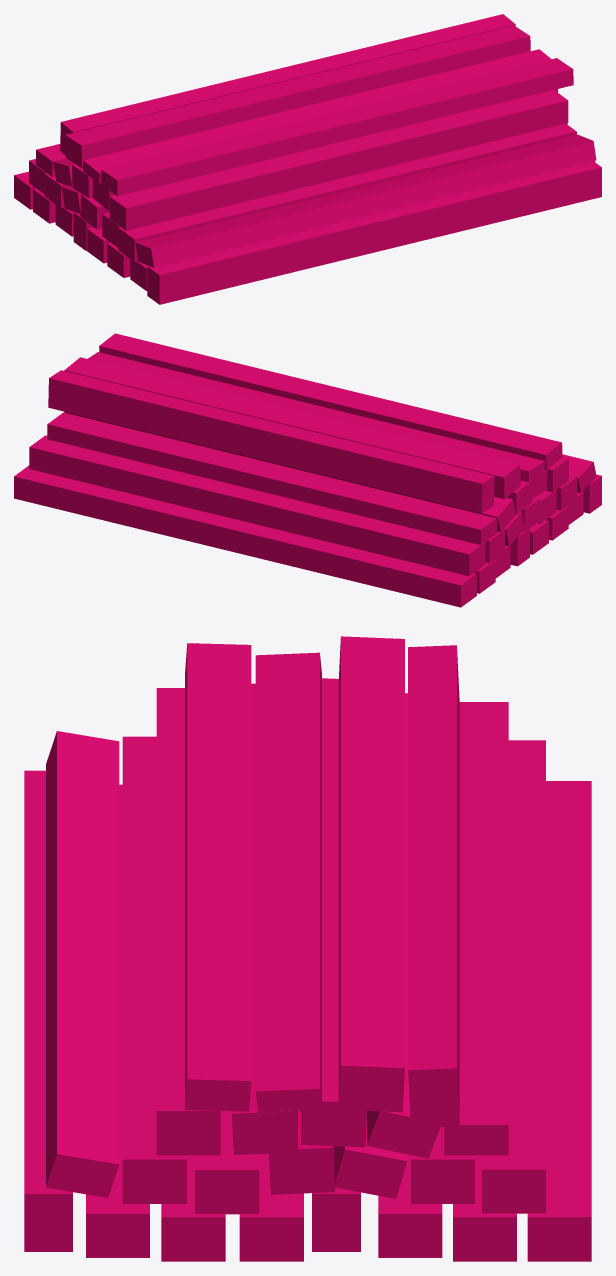
The model's file is Wood_W_Pile_02_Lod0.fbx.
3 views of the same model, one above another, from view 1: azimuth 30°, elevation 25°; view 2: azimuth 150°, elevation 25°; view 3: azimuth 270°, elevation 25° (orthographic). The views are drawn at different scales.
Parts seen in each view (by area): view 1: Wood_W_Pile_02_Lod0; view 2: Wood_W_Pile_02_Lod0; view 3: Wood_W_Pile_02_Lod0.
Boxes of the visible parts, x1,y1,x2,y2 form: Wood_W_Pile_02_Lod0: (14,14,601,304); Wood_W_Pile_02_Lod0: (14,333,601,607); Wood_W_Pile_02_Lod0: (24,636,591,1261).
Size of the model in its own units: 300 by 62.6 by 165.
